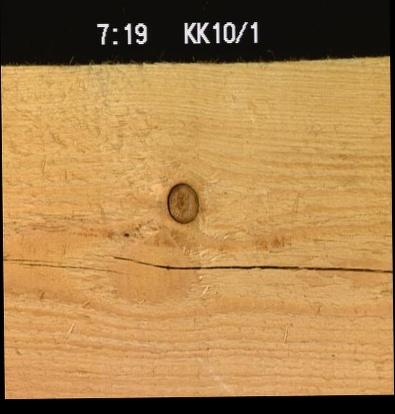dry_knot: (164, 180, 199, 224)
split: (112, 253, 390, 275), (2, 253, 130, 274)
